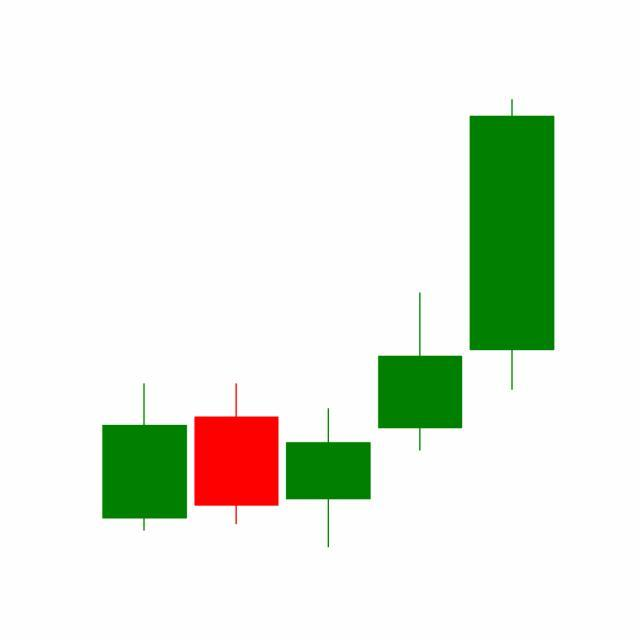Three Inside Up-Down: (190, 289, 467, 548)
